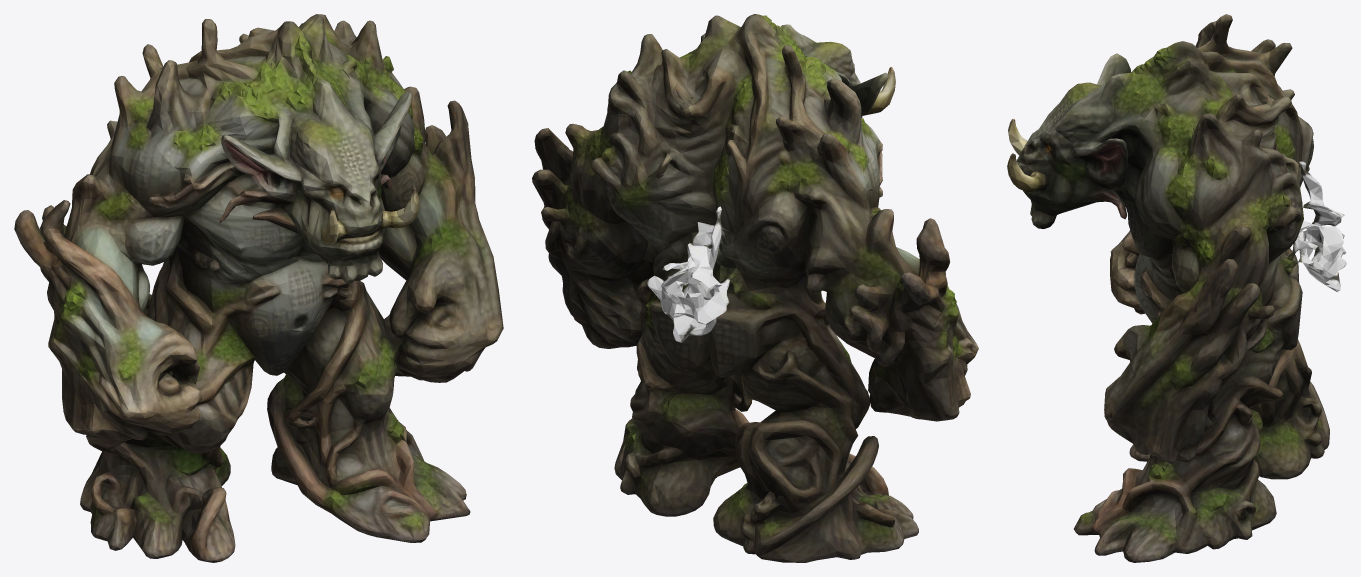
The model's file is rootboundTroll.glb.
3 views of the same model, side by side, from view 1: azimuth 30°, elevation 25°; view 2: azimuth 150°, elevation 25°; view 3: azimuth 270°, elevation 25° (orthographic). The views are drawn at different scales.
Visible parts, largest first — view 1: world; view 2: world; view 3: world.
Boxes of the visible parts, x1,y1,x2,y2 form: world: [14, 14, 503, 562]; world: [532, 14, 978, 562]; world: [1007, 14, 1346, 562].
Size of the model in its own units: 0.8962 by 0.9994 by 0.6713.
1 material, 1 textured.
